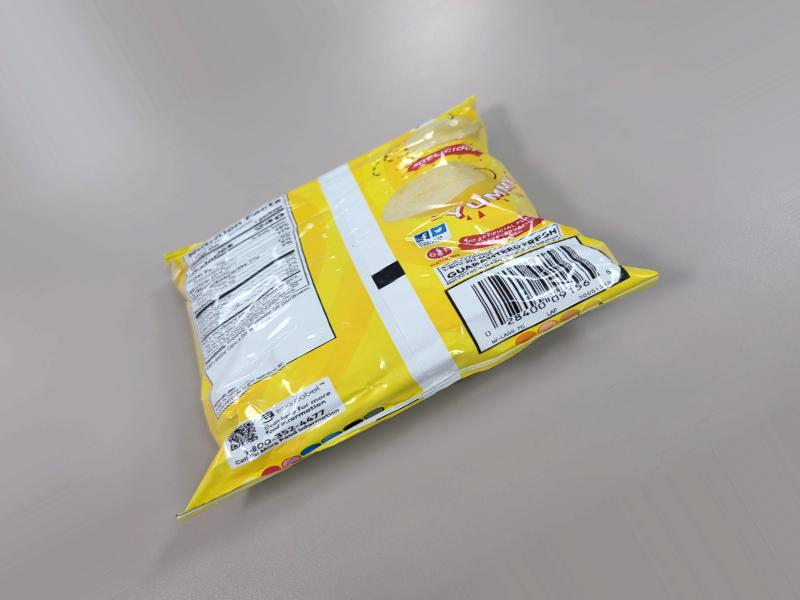lays: (211, 123, 651, 529)
